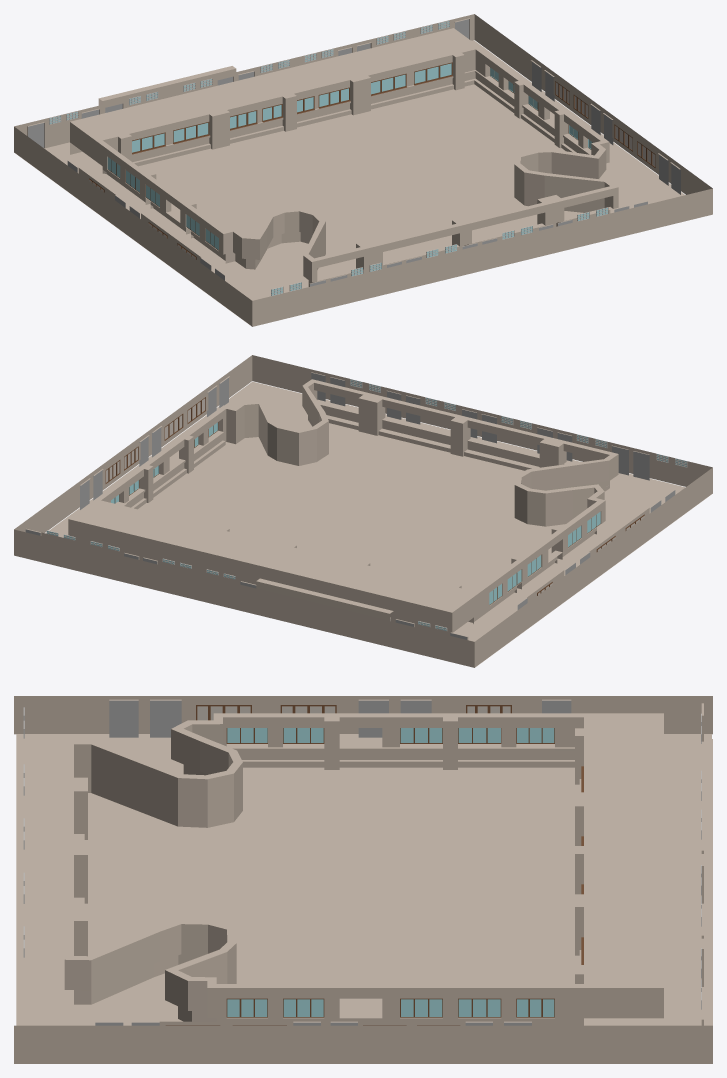
3 renders of one model, top to bottom at view 1: azimuth 30°, elevation 25°; view 2: azimuth 150°, elevation 25°; view 3: azimuth 270°, elevation 25°, orthographic. The views are drawn at different scales.
Visible parts, largest first — view 1: 8樓主體; view 2: 8樓主體; view 3: 8樓主體.
Boxes of the visible parts, bbox=[...] form: 8樓主體: bbox=[14, 14, 712, 326]; 8樓主體: bbox=[14, 355, 712, 667]; 8樓主體: bbox=[14, 696, 712, 1063].
Bounding box in the file's own units: 111 × 7.69 × 99.43.
